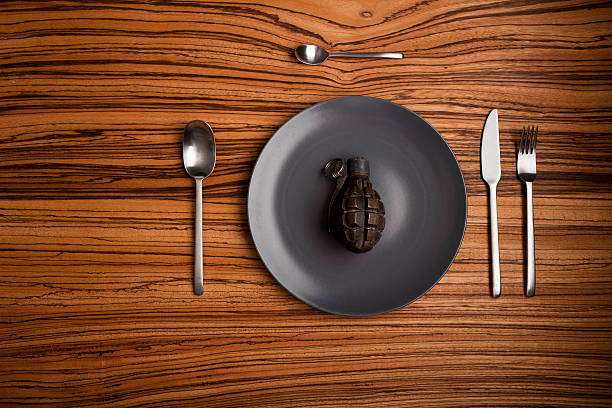e1: (320, 155, 386, 251)
